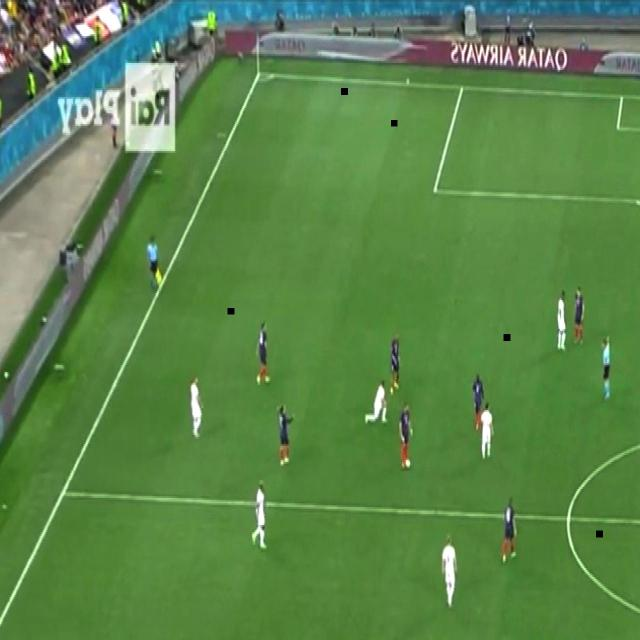ball: (4, 368, 10, 383), (405, 458, 412, 469)
player-white: (276, 402, 296, 468), (251, 479, 269, 551), (364, 379, 390, 427), (442, 532, 458, 608), (501, 496, 518, 564), (398, 402, 414, 471), (255, 321, 271, 386), (480, 399, 496, 461), (190, 373, 204, 441), (471, 372, 486, 432), (572, 285, 586, 347), (556, 288, 568, 356), (146, 234, 160, 292), (389, 330, 401, 396), (602, 333, 612, 403)
